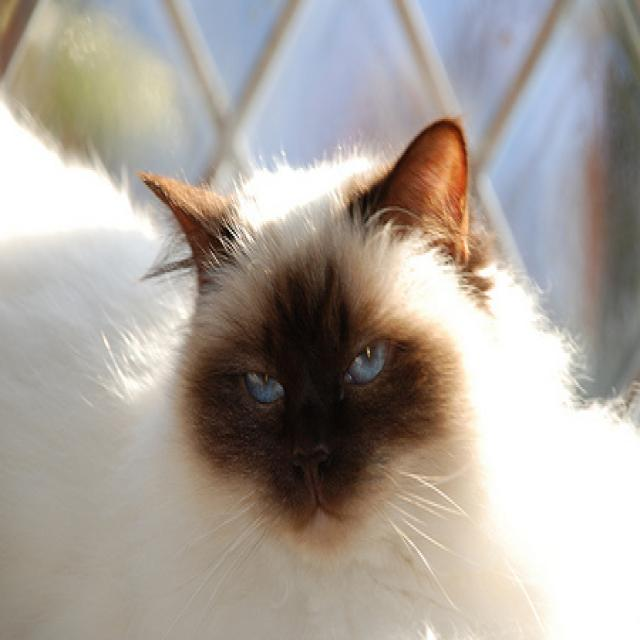Birman: (0, 112, 579, 640)
